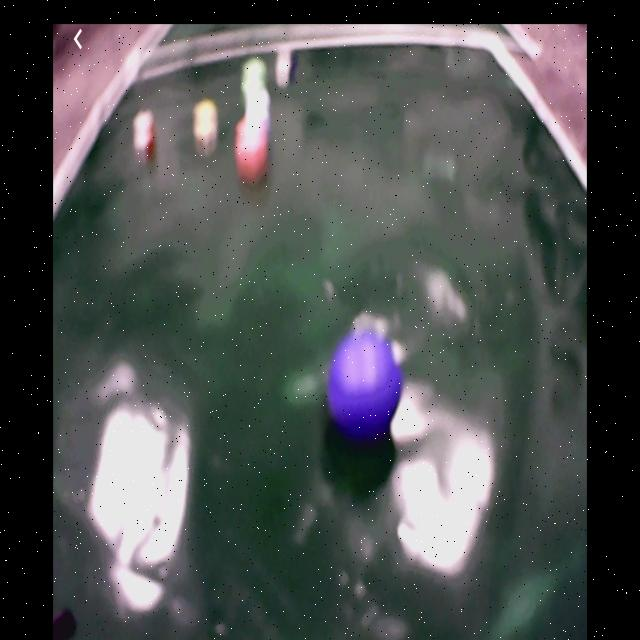ball: (327, 328, 402, 437)
